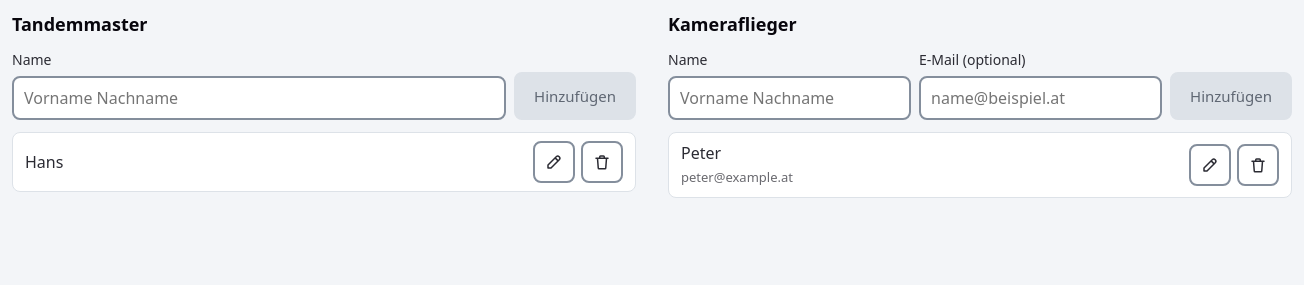
Test: Crew › cancelling the edit keeps the entry unchanged
Click the button named "Peter bearbeiten" at {"x": 1210, "y": 165}, box [1189,144,1231,186]
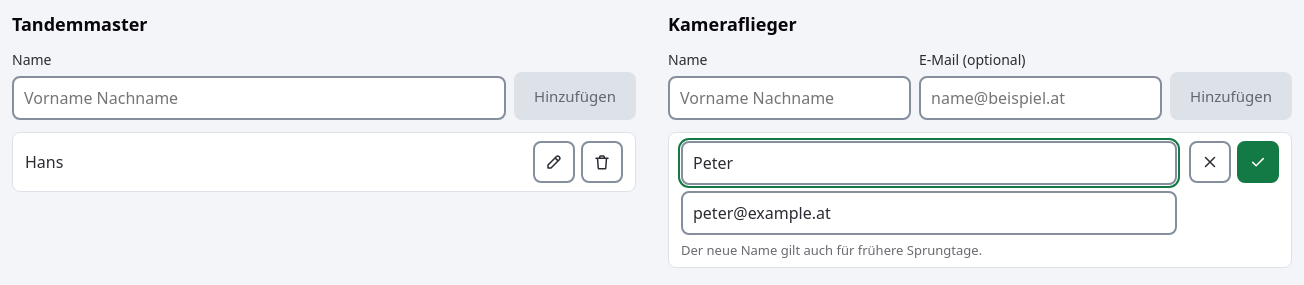
Type " Huber" into the field named "Name ändern" at {"x": 929, "y": 163}, box [681,141,1177,185]
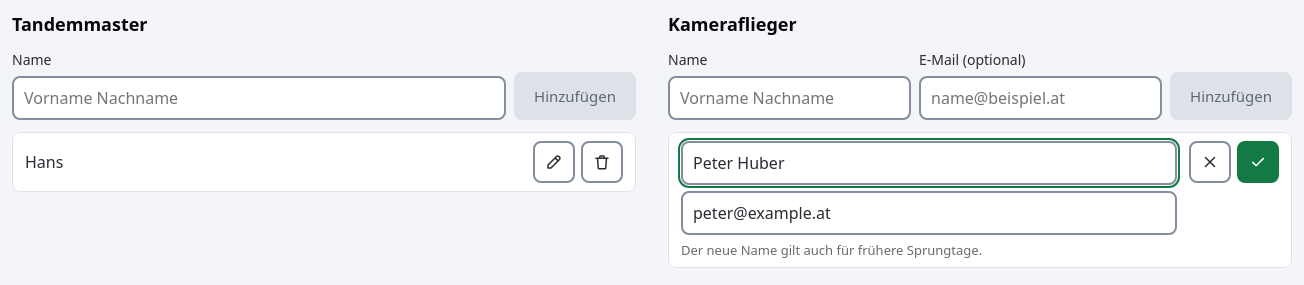
Click the button named "Abbrechen" at {"x": 1210, "y": 162}, box [1189,141,1231,183]
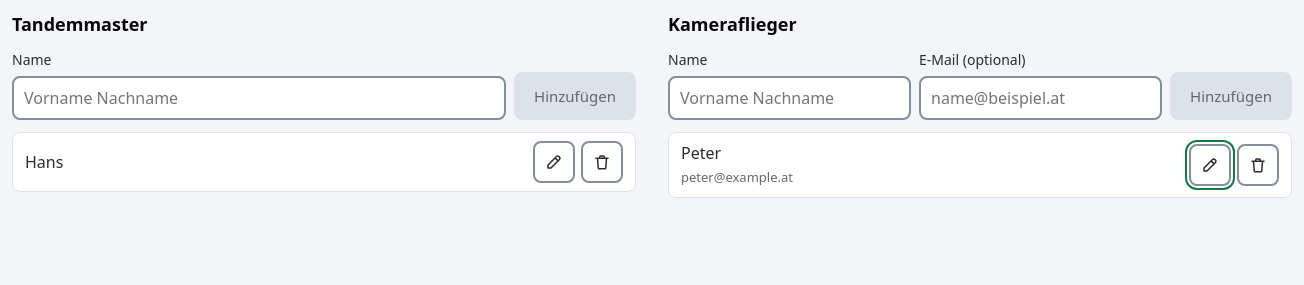
expect the text "Peter" is shown: met, box [681,142,721,164]
